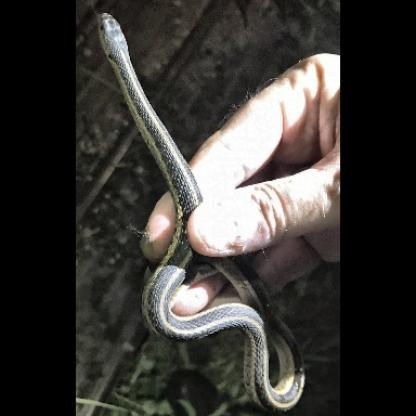Snake: (93, 12, 312, 410)
